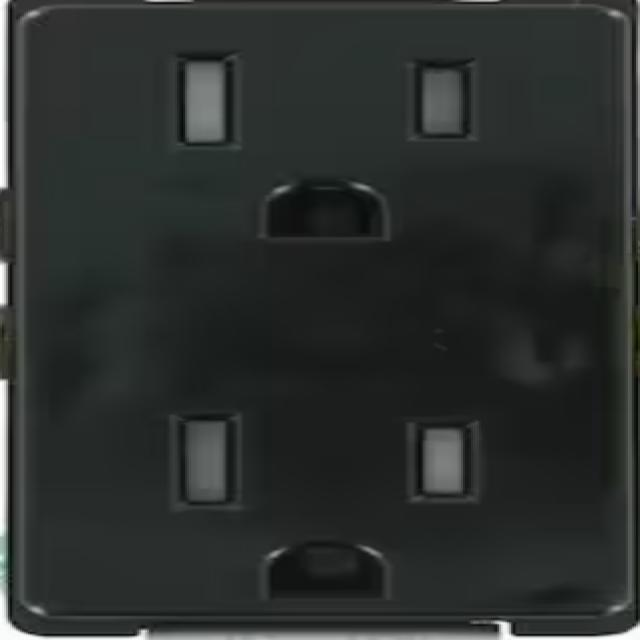type_b: (28, 11, 625, 619), (28, 11, 625, 278), (28, 375, 628, 621)
